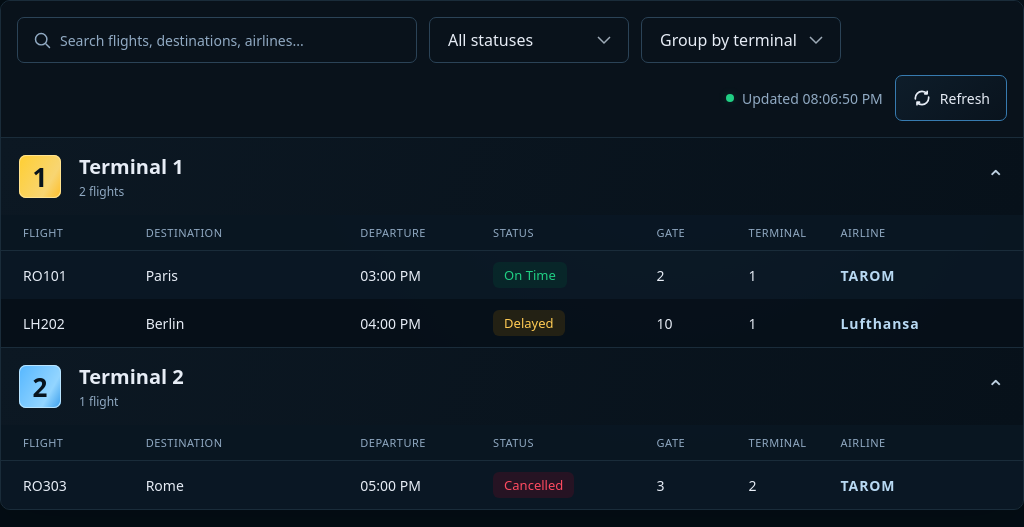
it: FlightList integration › accepts partial refreshed records and hides only their unusable fields
This screenshot has width=1024, height=527.
expect the cell with test id "cell-flightNumber-1" is shown: met, box left=1, top=250, right=124, bottom=299
Click the button with test id "refresh-button" at {"x": 951, "y": 98}, box left=895, top=75, right=1007, bottom=121
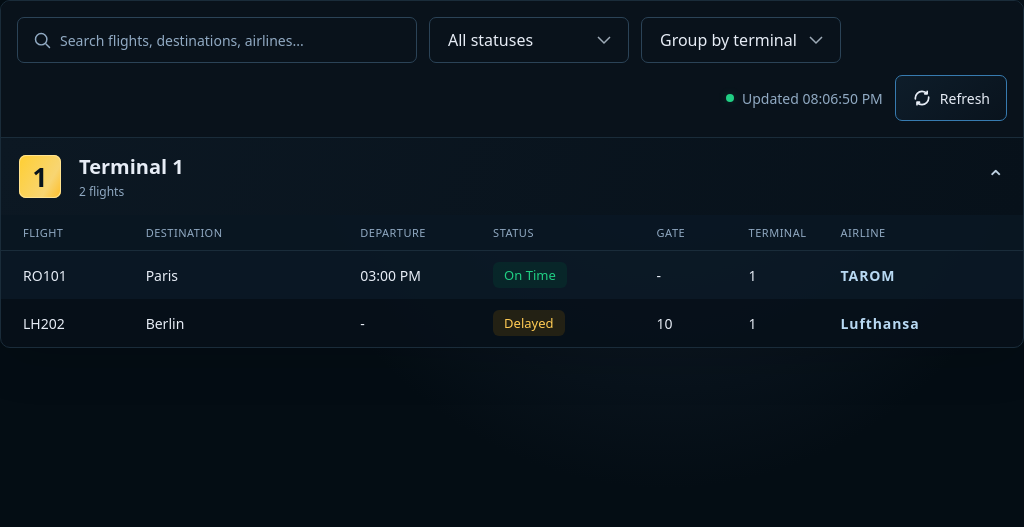
expect the cell with test id "cell-flightNumber-2" reads "LH202": met, box left=23, top=314, right=65, bottom=332
expect the cell with test id "cell-gate-1" reads "-": met, box left=657, top=266, right=661, bottom=284
expect the cell with test id "cell-departureTime-2" reads "-": met, box left=360, top=314, right=365, bottom=332
